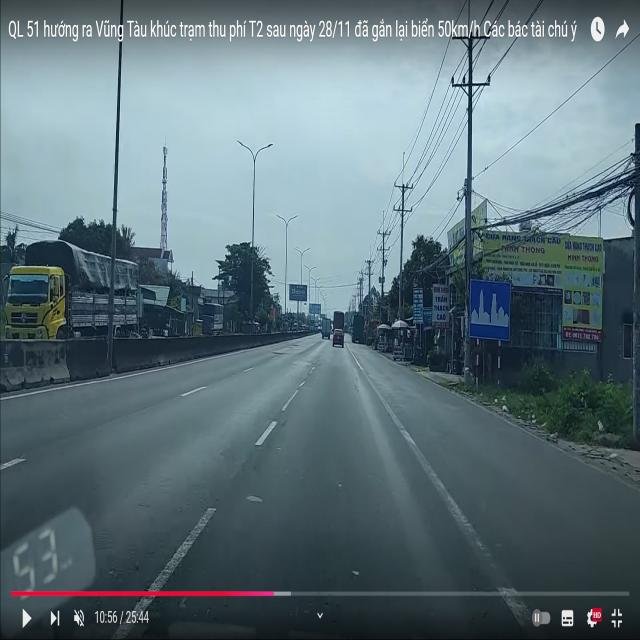Bien hieu lenh bat dau khu dong dan cu: (468, 276, 512, 345)
